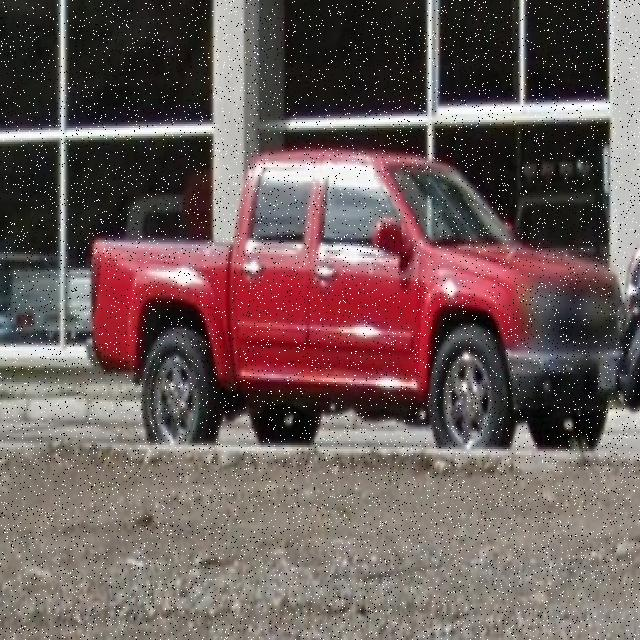cars: (81, 118, 630, 451)
